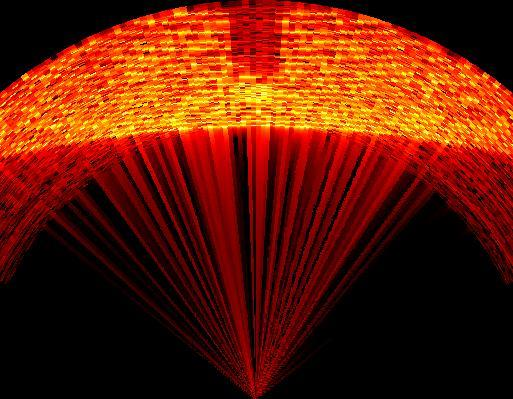box_crate: (226, 2, 280, 78)
